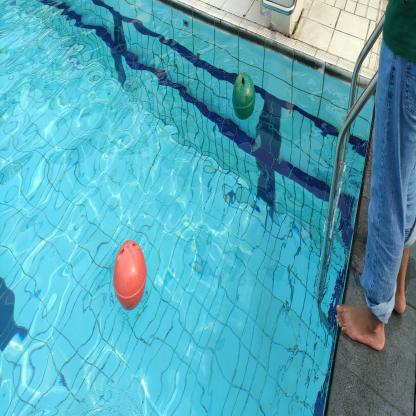green_buoy: (231, 70, 257, 120)
red_buoy: (111, 237, 149, 312)
